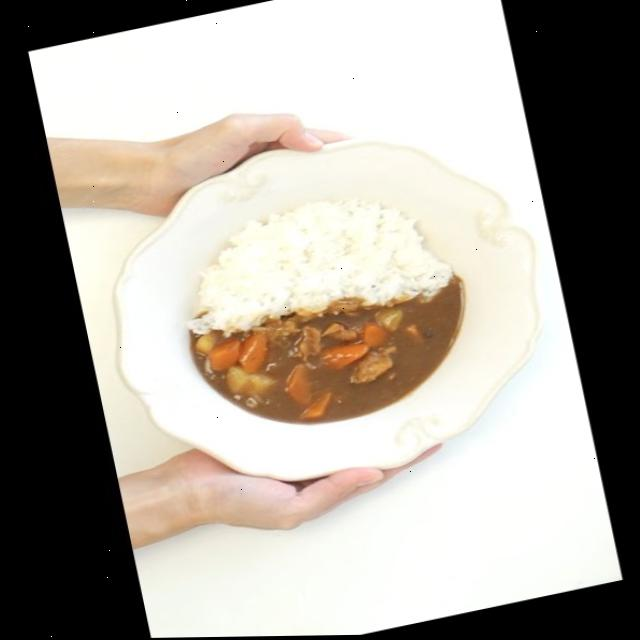Wet: (164, 171, 494, 449)
